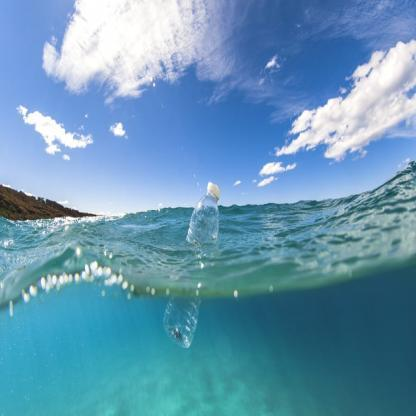plastic bottle: (188, 182, 219, 243)
